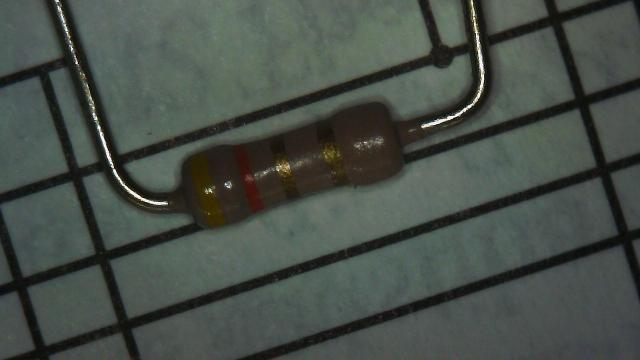gold: (316, 120, 348, 185), (270, 134, 298, 200)
orange: (234, 144, 264, 212)
resistor: (158, 76, 436, 261)
yellow: (190, 152, 226, 228)
